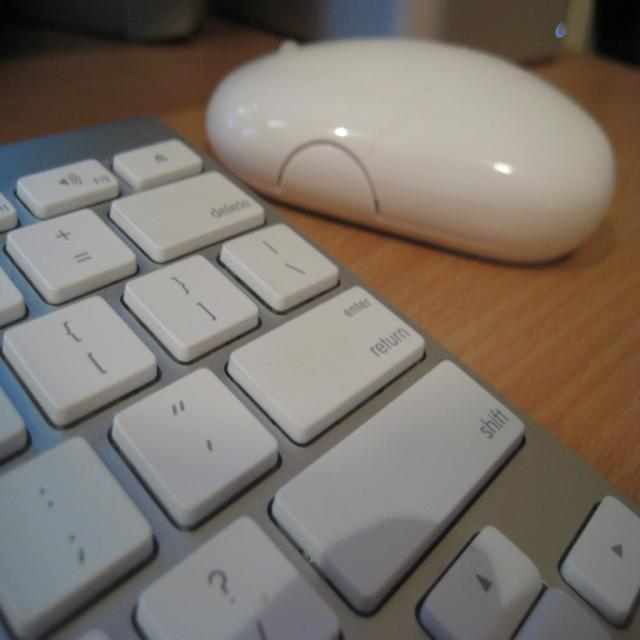Computer mouse: (198, 32, 612, 262)
